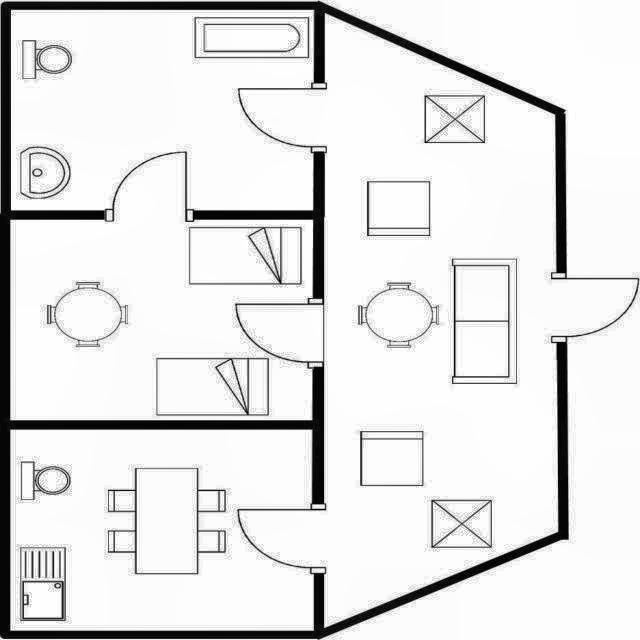room: (322, 13, 558, 628), (10, 429, 313, 631), (10, 220, 314, 420), (11, 10, 314, 210)
